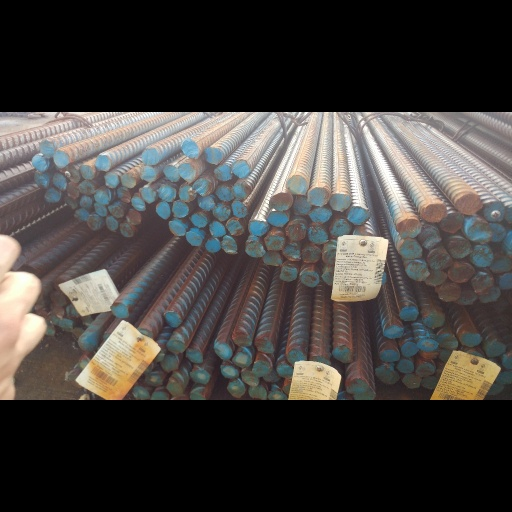dipstick: (464, 186, 494, 237), (395, 224, 425, 264), (469, 237, 498, 277), (405, 262, 432, 304), (454, 143, 483, 182), (446, 219, 472, 262), (425, 242, 452, 283), (449, 266, 478, 304), (374, 449, 402, 488), (421, 161, 449, 199), (472, 281, 495, 325), (282, 415, 309, 452), (398, 187, 423, 224), (242, 223, 267, 260), (345, 467, 370, 504), (308, 131, 332, 169), (418, 204, 442, 242), (459, 384, 484, 420), (382, 373, 409, 406), (397, 337, 421, 374), (180, 41, 202, 81), (284, 192, 308, 228), (438, 304, 464, 337), (378, 416, 404, 449), (285, 110, 308, 147), (329, 140, 352, 177), (229, 122, 254, 156), (440, 180, 464, 215), (230, 81, 252, 119), (484, 156, 506, 194), (215, 409, 237, 446), (177, 88, 197, 128), (231, 386, 256, 418), (487, 399, 506, 441), (269, 143, 293, 176), (435, 391, 459, 424), (307, 168, 332, 199), (188, 453, 213, 484), (248, 186, 270, 221), (52, 64, 72, 102), (333, 412, 354, 448), (30, 73, 52, 107), (348, 166, 370, 200), (425, 354, 447, 388), (303, 234, 323, 271), (181, 208, 204, 240), (266, 174, 290, 204), (193, 116, 214, 150), (219, 219, 240, 253), (161, 348, 182, 382), (255, 397, 276, 431), (400, 403, 420, 438), (185, 417, 206, 450), (207, 188, 226, 224), (225, 479, 247, 510), (239, 457, 261, 488), (111, 336, 132, 368), (163, 401, 187, 429), (401, 463, 424, 492), (166, 189, 186, 222), (172, 154, 190, 190), (217, 446, 241, 473), (77, 395, 100, 423), (204, 60, 223, 93), (141, 61, 161, 92), (94, 73, 113, 105), (213, 92, 232, 124), (108, 159, 128, 189), (77, 89, 95, 122), (279, 270, 298, 301), (229, 156, 247, 188), (260, 247, 282, 273), (131, 486, 153, 512), (275, 446, 296, 473), (117, 196, 136, 225), (161, 433, 180, 462), (163, 94, 180, 126), (38, 48, 55, 80), (78, 122, 97, 150), (168, 472, 187, 500), (251, 442, 273, 466), (144, 464, 166, 488), (32, 107, 50, 136), (85, 182, 103, 211), (123, 175, 143, 200), (120, 106, 137, 135), (204, 224, 221, 253), (65, 124, 82, 153), (130, 151, 148, 178), (191, 180, 209, 207), (53, 112, 71, 139), (197, 153, 218, 175), (189, 488, 211, 509), (248, 488, 267, 512), (102, 185, 117, 215), (94, 136, 110, 164), (139, 96, 155, 124), (104, 104, 120, 132), (417, 444, 434, 469), (500, 284, 512, 319), (398, 440, 415, 464), (59, 367, 76, 391), (46, 134, 60, 160), (79, 150, 95, 172)
